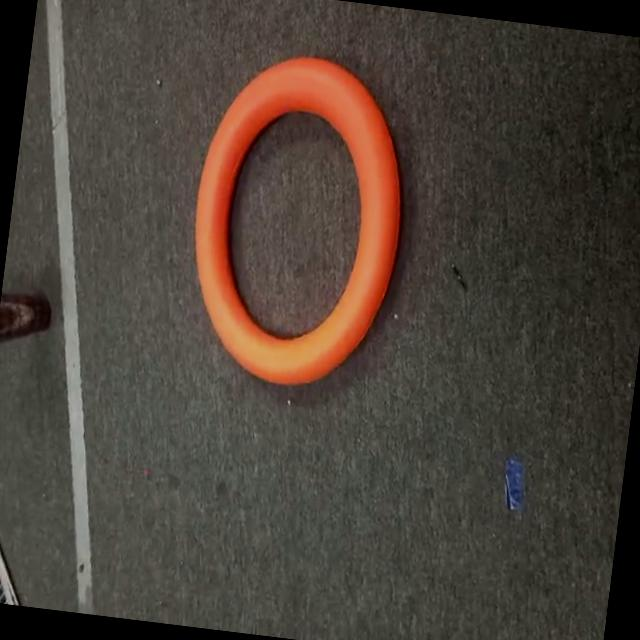note: (168, 43, 434, 408)
